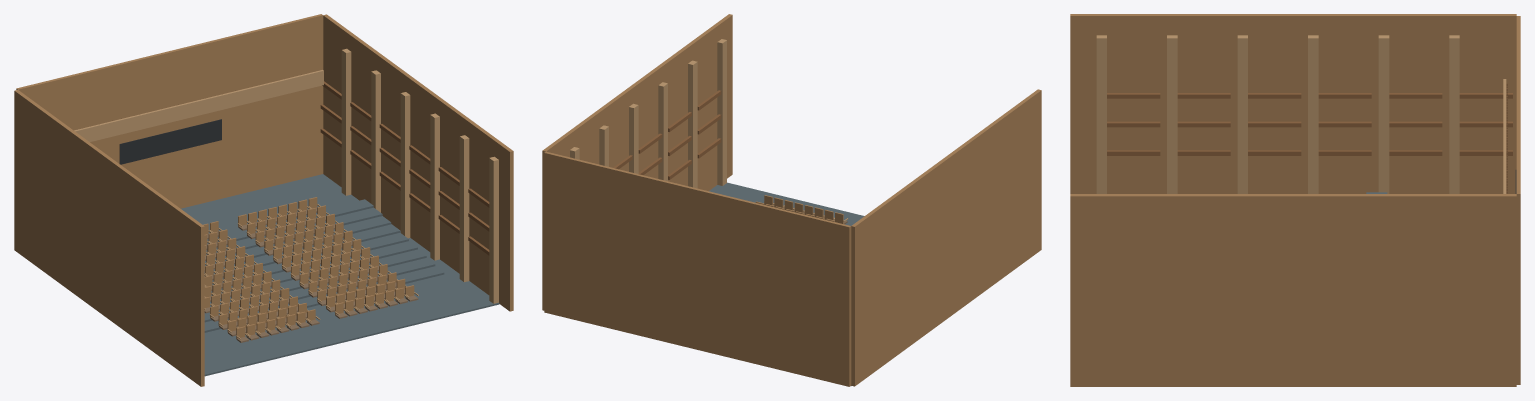
Rendered from small-auditorium-context.glb.
3 views of the same model, side by side, from view 1: azimuth 30°, elevation 25°; view 2: azimuth 150°, elevation 25°; view 3: azimuth 270°, elevation 25° (orthographic). The views are drawn at different scales.
Parts seen in each view (by area): view 1: Hall | side wall -1, Hall | rear wall, Hall | side wall 1, Hall | auditorium carpet, Hall | balcony fascia, Hall | rear control window, Hall | side pilaster 1-1, Hall | side pilaster 1-5, Hall | side pilaster 1-3, Hall | side pilaster 1-0, Hall | side pilaster 1-2, Hall | side pilaster 1-4 (+9 smaller); view 2: Hall | rear wall, Hall | side wall -1, Hall | side wall 1, Hall | side pilaster 1-0, Hall | auditorium carpet, Hall | side pilaster 1-1, Hall | side pilaster 1-2, Hall | side pilaster 1-3; view 3: Hall | side wall 1, Hall | side wall -1, Hall | side pilaster -1-4, Hall | rear wall, Hall | side pilaster -1-0, Hall | side pilaster -1-1, Hall | side pilaster -1-2, Hall | side pilaster -1-3, Hall | side pilaster -1-5, Hall | balcony fascia.
Boxes of the visible parts, x1,y1,x2,y2 form: Hall | side wall -1: [14, 90, 204, 386]; Hall | rear wall: [16, 14, 323, 208]; Hall | side wall 1: [323, 14, 513, 311]; Hall | auditorium carpet: [181, 174, 499, 376]; Hall | balcony fascia: [74, 70, 323, 141]; Hall | rear control window: [119, 119, 221, 164]; Hall | side pilaster 1-1: [459, 135, 469, 282]; Hall | side pilaster 1-5: [341, 48, 351, 195]; Hall | side pilaster 1-3: [400, 92, 410, 238]; Hall | side pilaster 1-0: [489, 156, 498, 303]; Hall | side pilaster 1-2: [430, 113, 439, 260]; Hall | side pilaster 1-4: [371, 70, 380, 212]; Hall | rear wall: [544, 151, 851, 386]; Hall | side wall -1: [851, 89, 1041, 386]; Hall | side wall 1: [542, 14, 732, 310]; Hall | side pilaster 1-0: [717, 39, 726, 185]; Hall | auditorium carpet: [709, 182, 864, 385]; Hall | side pilaster 1-1: [688, 60, 697, 188]; Hall | side pilaster 1-2: [658, 82, 667, 181]; Hall | side pilaster 1-3: [629, 103, 638, 173]; Hall | side wall 1: [1070, 194, 1516, 386]; Hall | side wall -1: [1070, 14, 1516, 193]; Hall | side pilaster -1-4: [1378, 35, 1389, 193]; Hall | rear wall: [1516, 16, 1520, 384]; Hall | side pilaster -1-0: [1096, 35, 1106, 193]; Hall | side pilaster -1-1: [1167, 35, 1177, 193]; Hall | side pilaster -1-2: [1237, 35, 1247, 193]; Hall | side pilaster -1-3: [1308, 35, 1318, 193]; Hall | side pilaster -1-5: [1449, 35, 1459, 193]; Hall | balcony fascia: [1503, 79, 1506, 193].
Bounding box in the file's own units: 20.48 × 10.04 × 21.4.
